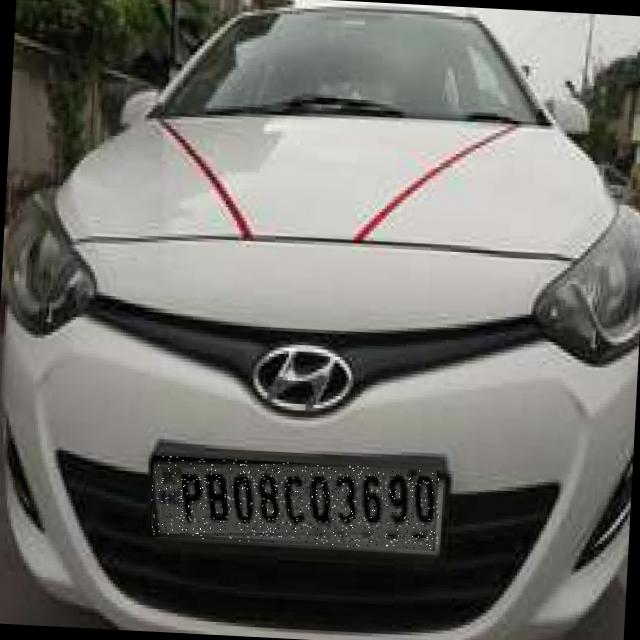Plate: (151, 457, 443, 553)
